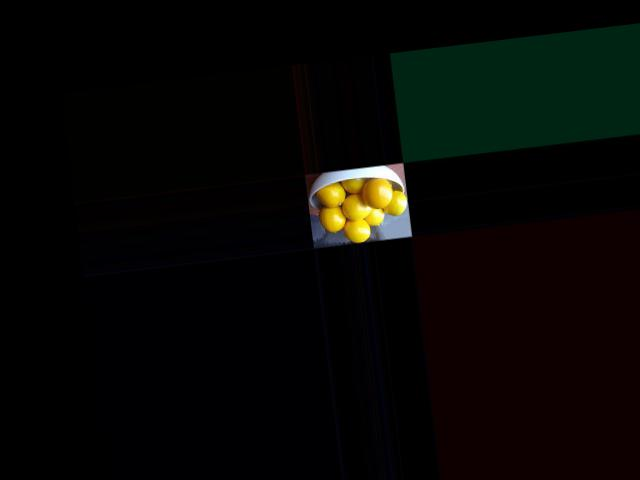lemon: (342, 172, 364, 194)
